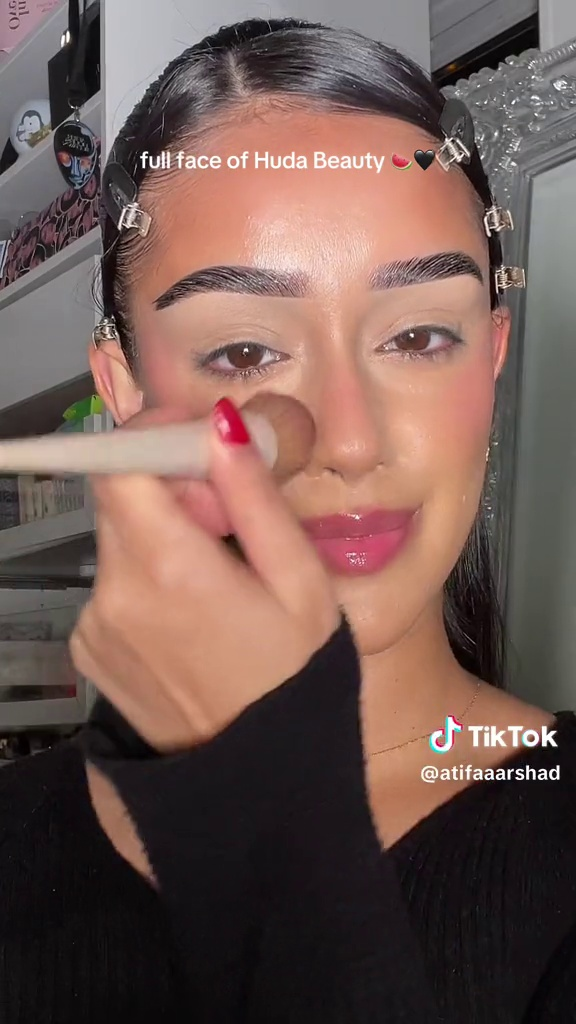train' :'yolo_data/train/images',: (1, 355, 332, 478)
